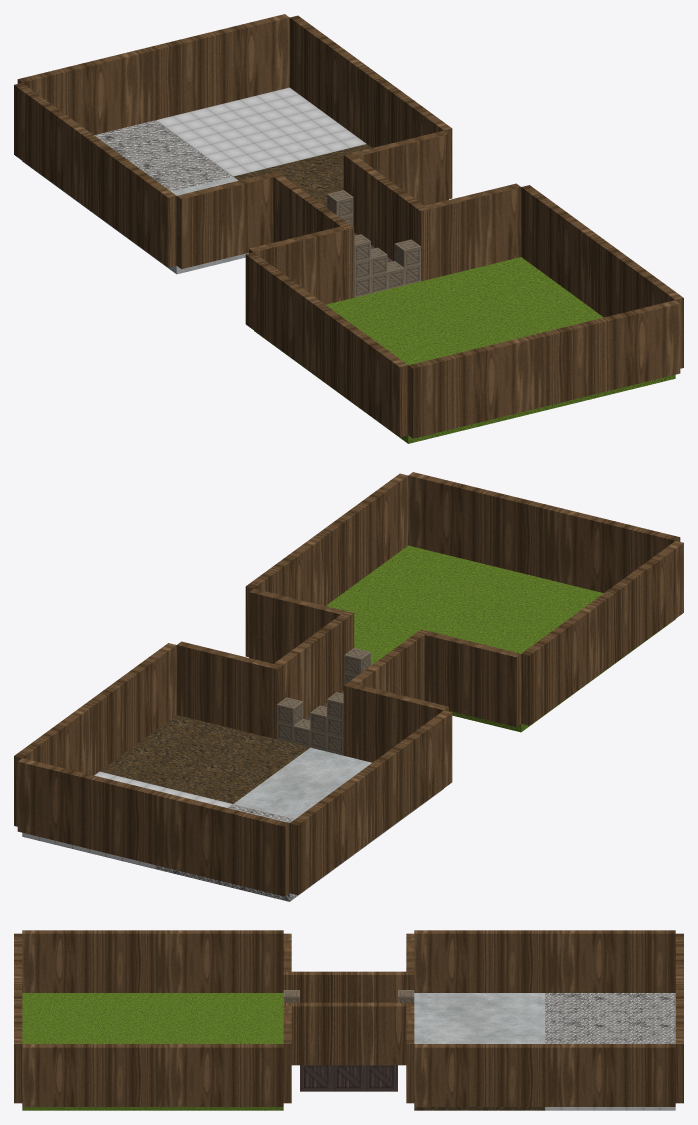
File: map02.obj
3 renders of one model, top to bottom at view 1: azimuth 30°, elevation 25°; view 2: azimuth 150°, elevation 25°; view 3: azimuth 270°, elevation 25°, orthographic. The views are drawn at different scales.
Parts seen in each view (by area): view 1: Cube.009_Cube.011, Cube.010_Cube.012, Cube_Cube.001, Cube.008_Cube.010, Cube.005_Cube.007, Cube.037_Cube.046, Cube.006_Cube.008, Cube.007_Cube.009, Cube.014_Cube.016, Cube.012_Cube.014, Cube.003_Cube.004, Cube.036_Cube.045 (+6 smaller); view 2: Cube.010_Cube.012, Cube_Cube.001, Cube.009_Cube.011, Cube.005_Cube.007, Cube.008_Cube.010, Cube.038_Cube.047, Cube.007_Cube.009, Cube.006_Cube.008, Cube.013_Cube.015, Cube.011_Cube.013, Cube.003_Cube.004, Cube.001_Cube.044 (+6 smaller); view 3: Cube.008_Cube.010, Cube.007_Cube.009, Cube.006_Cube.008, Cube.005_Cube.007, Cube_Cube.001, Cube.003_Cube.004, Cube.036_Cube.045, Cube.001_Cube.044, Cube.004_Cube.006, Cube.010_Cube.012, Cube.009_Cube.011, Cube.032_Cube.040 (+8 smaller).
Part boxes in pixels (<box>): Cube.009_Cube.011: <box>408,300,680,438</box>; Cube.010_Cube.012: <box>17,14,289,134</box>; Cube_Cube.001: <box>254,257,675,443</box>; Cube.008_Cube.010: <box>245,252,408,436</box>; Cube.005_Cube.007: <box>14,83,176,267</box>; Cube.037_Cube.046: <box>156,87,366,176</box>; Cube.006_Cube.008: <box>289,15,452,199</box>; Cube.007_Cube.009: <box>521,185,683,368</box>; Cube.014_Cube.016: <box>176,173,273,269</box>; Cube.012_Cube.014: <box>425,183,521,279</box>; Cube.003_Cube.004: <box>343,153,429,281</box>; Cube.036_Cube.045: <box>22,120,232,217</box>; Cube.010_Cube.012: <box>17,758,289,896</box>; Cube_Cube.001: <box>326,545,675,732</box>; Cube.009_Cube.011: <box>408,472,680,592</box>; Cube.005_Cube.007: <box>289,710,452,894</box>; Cube.008_Cube.010: <box>521,541,683,725</box>; Cube.038_Cube.047: <box>100,715,309,803</box>; Cube.007_Cube.009: <box>245,473,408,657</box>; Cube.006_Cube.008: <box>14,643,176,826</box>; Cube.013_Cube.015: <box>424,631,521,727</box>; Cube.011_Cube.013: <box>176,641,272,737</box>; Cube.003_Cube.004: <box>268,611,354,739</box>; Cube.001_Cube.044: <box>233,747,443,844</box>; Cube.008_Cube.010: <box>22,930,283,992</box>; Cube.007_Cube.009: <box>22,1044,283,1106</box>; Cube.006_Cube.008: <box>414,1044,675,1106</box>; Cube.005_Cube.007: <box>414,930,675,992</box>; Cube_Cube.001: <box>22,993,283,1110</box>; Cube.003_Cube.004: <box>283,1002,414,1065</box>; Cube.036_Cube.045: <box>545,993,675,1043</box>; Cube.001_Cube.044: <box>414,993,544,1043</box>; Cube.004_Cube.006: <box>283,971,414,1002</box>; Cube.010_Cube.012: <box>675,933,683,1103</box>; Cube.009_Cube.011: <box>14,933,22,1103</box>; Cube.032_Cube.040: <box>332,1065,365,1091</box>.
Size of the model in its own units: 68 by 24 by 164.
